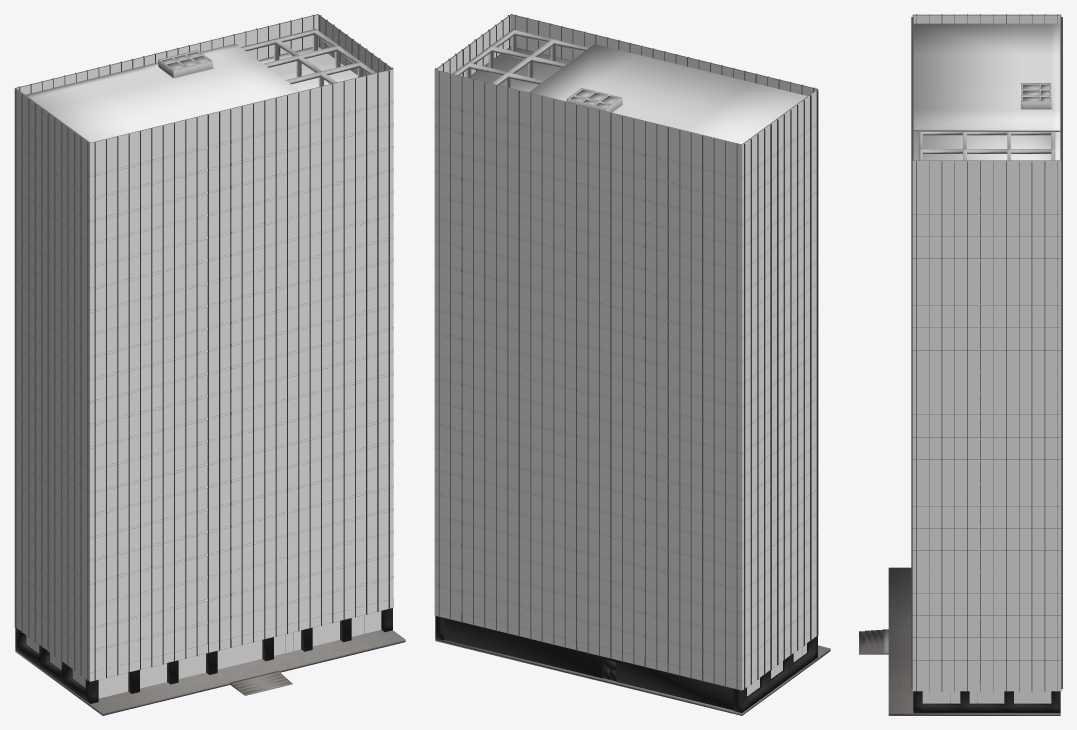
File: spacehub-building.glb
3 renders of one model, left to right at view 1: azimuth 30°, elevation 25°; view 2: azimuth 150°, elevation 25°; view 3: azimuth 270°, elevation 25°, orthographic. The views are drawn at different scales.
Parts seen in each view (by area): view 1: Facade.M, Facade.B, Concrete.Slab, Floor base, Glass.FL, Columns.FL, Columns.Building, Elevator; view 2: Facade.M, Facade.B, Concrete.Slab, Columns.FL, Columns.Building, Floor base, Elevator; view 3: Facade.M, Concrete.Slab, Facade.B, Floor base, Columns.FL, Columns.Building, Glass.FL, Elevator.
Boxes of the visible parts, bbox=[...] form: Facade.M: bbox=[14, 14, 393, 672]; Facade.B: bbox=[14, 101, 393, 681]; Concrete.Slab: bbox=[25, 43, 357, 142]; Floor base: bbox=[15, 630, 405, 715]; Glass.FL: bbox=[26, 611, 381, 698]; Columns.FL: bbox=[15, 608, 392, 703]; Columns.Building: bbox=[241, 29, 375, 86]; Elevator: bbox=[158, 50, 212, 77]; Facade.M: bbox=[434, 14, 818, 681]; Facade.B: bbox=[434, 102, 818, 690]; Concrete.Slab: bbox=[471, 44, 807, 144]; Columns.FL: bbox=[435, 616, 817, 712]; Columns.Building: bbox=[452, 29, 589, 87]; Floor base: bbox=[435, 638, 830, 715]; Elevator: bbox=[566, 88, 622, 112]; Facade.M: bbox=[911, 14, 1062, 682]; Concrete.Slab: bbox=[913, 23, 1060, 160]; Facade.B: bbox=[911, 189, 1062, 691]; Floor base: bbox=[859, 567, 1060, 715]; Columns.FL: bbox=[913, 691, 1060, 713]; Columns.Building: bbox=[918, 132, 1055, 160]; Glass.FL: bbox=[922, 691, 1051, 703]; Elevator: bbox=[1021, 83, 1051, 109].
Bounding box in the file's own units: 70.84 × 125 × 41.42.
Materials: 11 (4 with a texture image).
